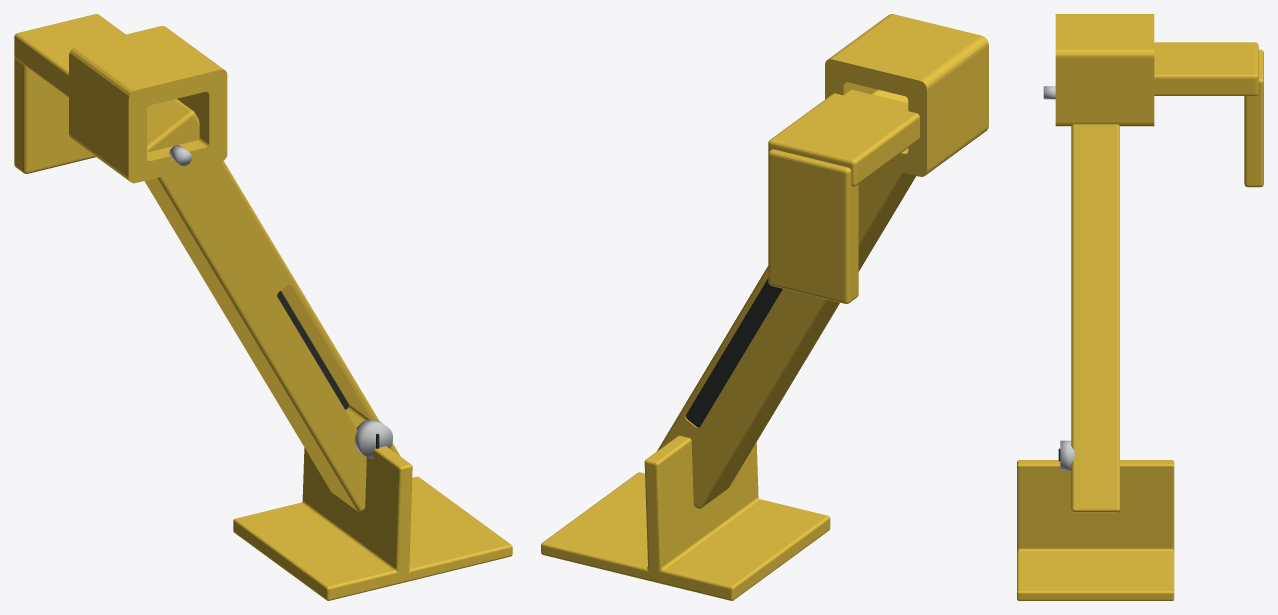
The model's file is full.glb.
3 views of the same model, side by side, from view 1: azimuth 30°, elevation 25°; view 2: azimuth 150°, elevation 25°; view 3: azimuth 270°, elevation 25° (orthographic). The views are drawn at different scales.
Parts seen in each view (by area): view 1: Diagonal rectangular arm, Folded ground tyre support, Raised rectangular receiver, Generic rear downturned capture, Generic rear receiver spine, Round silver locking face, Recessed dark slot lining; view 2: Folded ground tyre support, Diagonal rectangular arm, Raised rectangular receiver, Generic rear downturned capture, Generic rear receiver spine, Recessed dark slot lining; view 3: Folded ground tyre support, Diagonal rectangular arm, Raised rectangular receiver, Generic rear receiver spine, Generic rear downturned capture, Round silver locking face.
Boxes of the visible parts, left/top/right/bottom form: Diagonal rectangular arm: left=144, top=99, right=400, bottom=511; Folded ground tyre support: left=233, top=446, right=512, bottom=600; Raised rectangular receiver: left=69, top=26, right=227, bottom=183; Generic rear downturned capture: left=14, top=57, right=95, bottom=173; Generic rear receiver spine: left=14, top=14, right=125, bottom=97; Round silver locking face: left=354, top=419, right=392, bottom=459; Recessed dark slot lining: left=277, top=291, right=348, bottom=409; Folded ground tyre support: left=541, top=435, right=830, bottom=600; Diagonal rectangular arm: left=657, top=89, right=915, bottom=508; Raised rectangular receiver: left=825, top=14, right=988, bottom=176; Generic rear downturned capture: left=768, top=149, right=858, bottom=303; Generic rear receiver spine: left=768, top=89, right=919, bottom=186; Recessed dark slot lining: left=686, top=278, right=782, bottom=427; Folded ground tyre support: left=1017, top=460, right=1174, bottom=600; Diagonal rectangular arm: left=1071, top=124, right=1119, bottom=513; Raised rectangular receiver: left=1055, top=14, right=1154, bottom=126; Generic rear receiver spine: left=1154, top=42, right=1258, bottom=95; Generic rear downturned capture: left=1244, top=49, right=1263, bottom=187; Round silver locking face: left=1060, top=440, right=1074, bottom=470.
Bounding box in the file's own units: 0.3185 × 0.451 × 0.2275.
